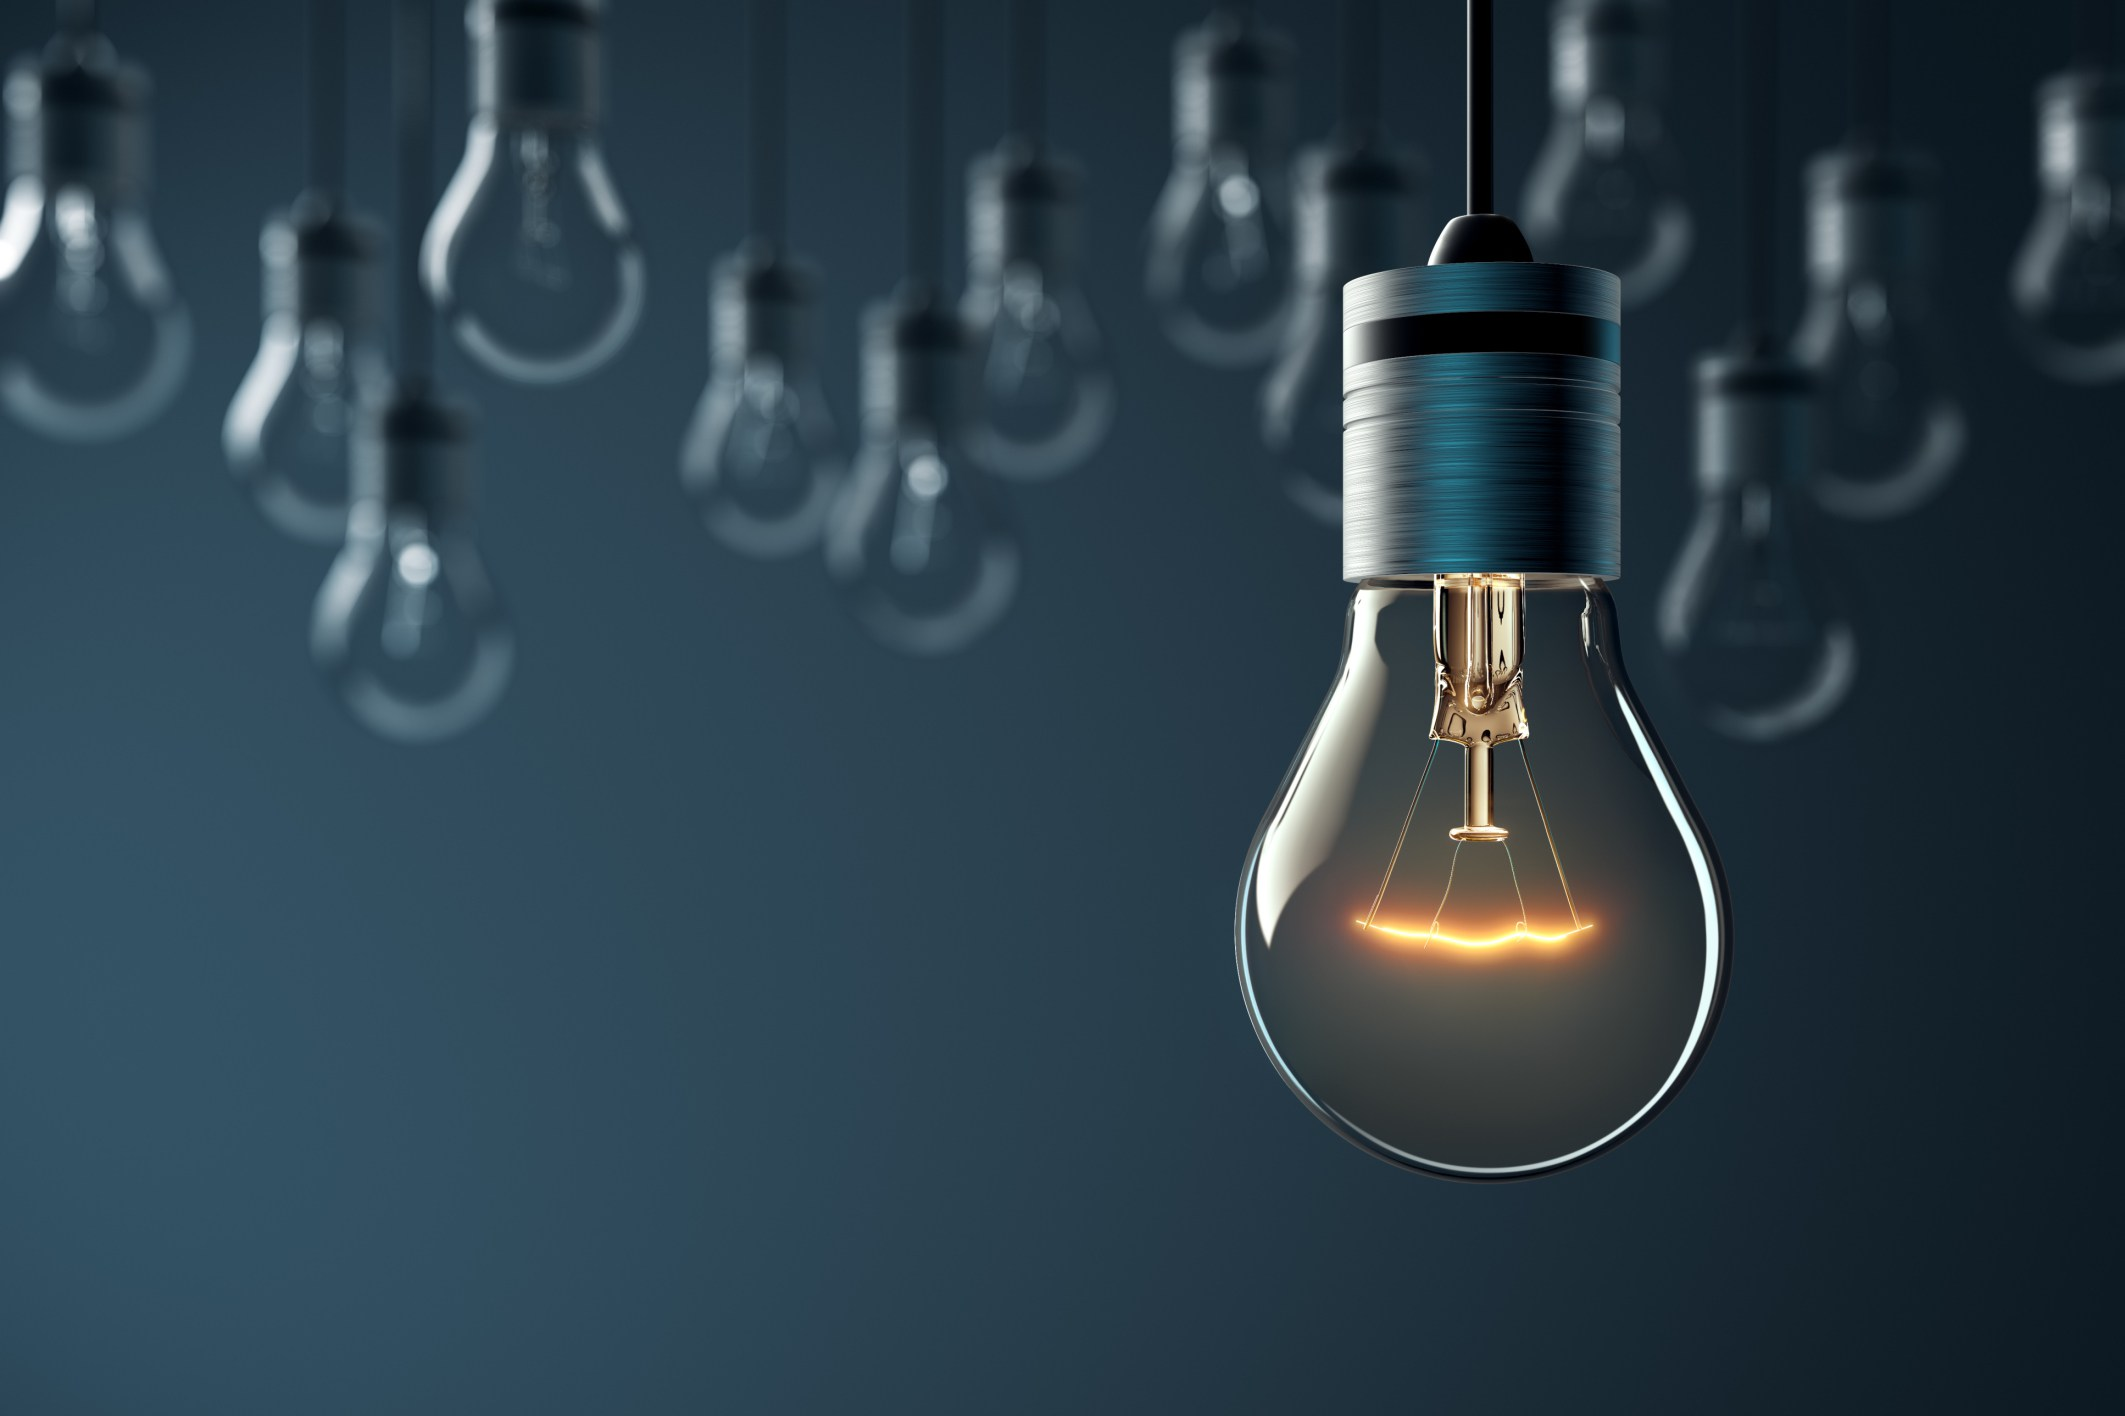Nonrec_Glass: (1096, 179, 1886, 1237)
